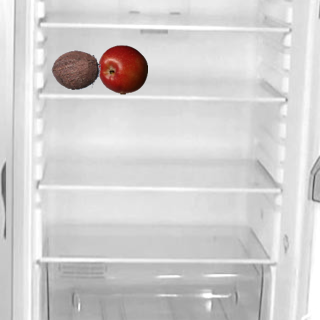Apple Braeburn: (97, 44, 147, 94)
Cocos: (50, 44, 100, 94)
